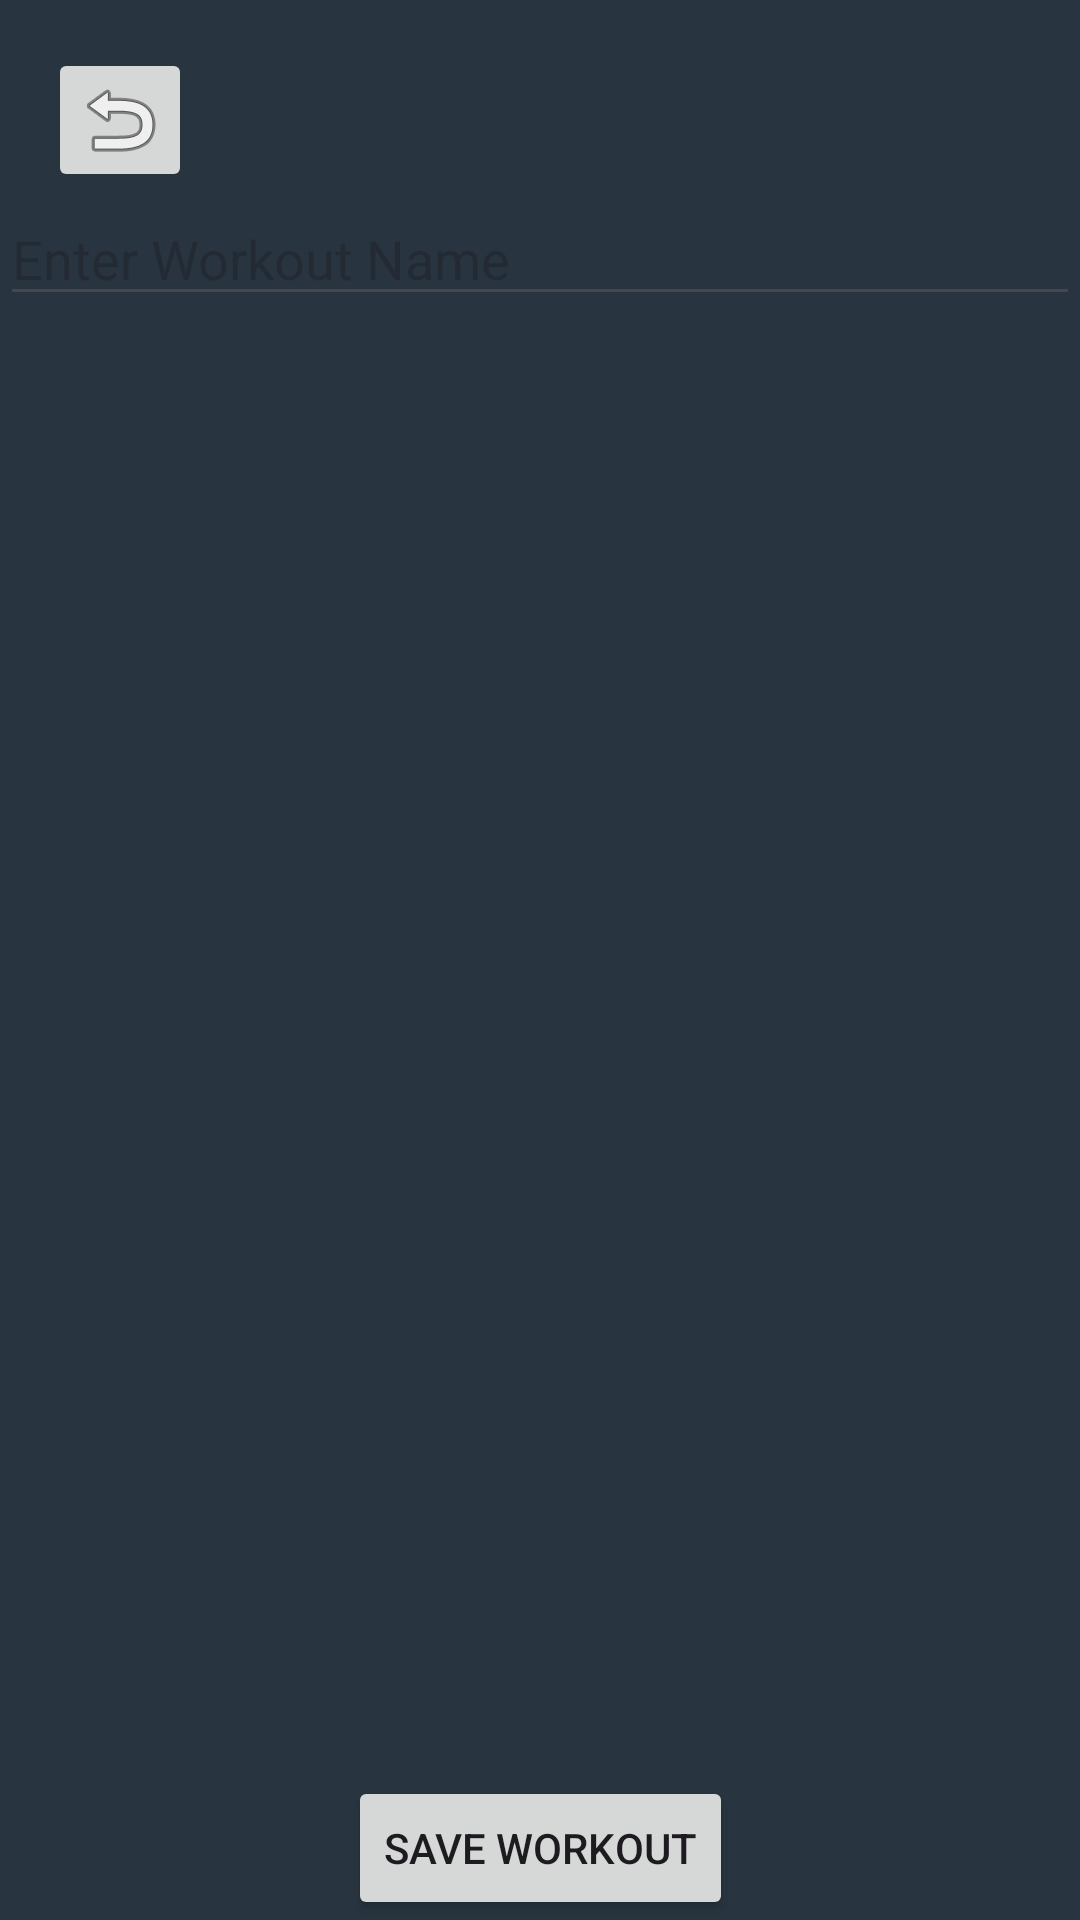

Where icons sit on this 1080×1920 app screen, as (x1, y1, x2, y2):
revert: (60, 66, 180, 174)
